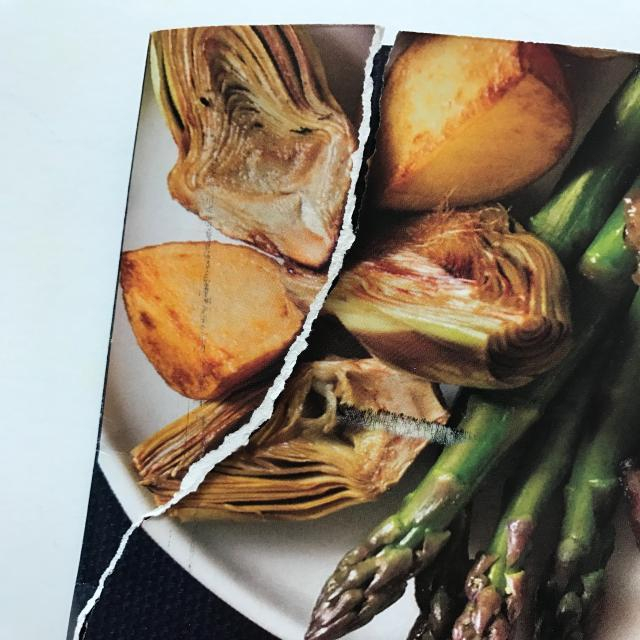paper: (67, 28, 640, 640)
